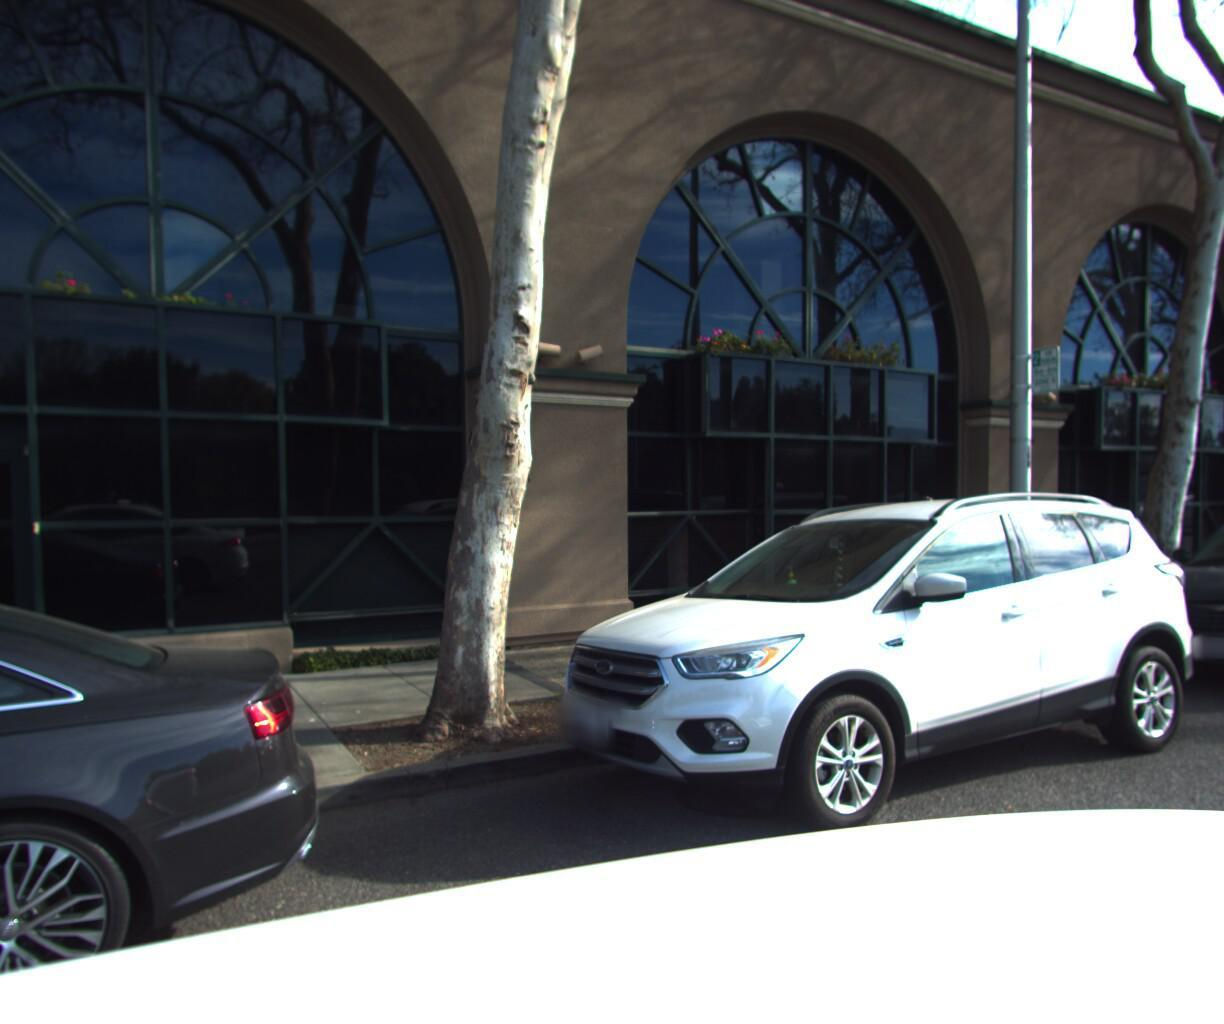car: (500, 478, 1223, 895), (0, 535, 358, 1024), (1102, 480, 1224, 721)
